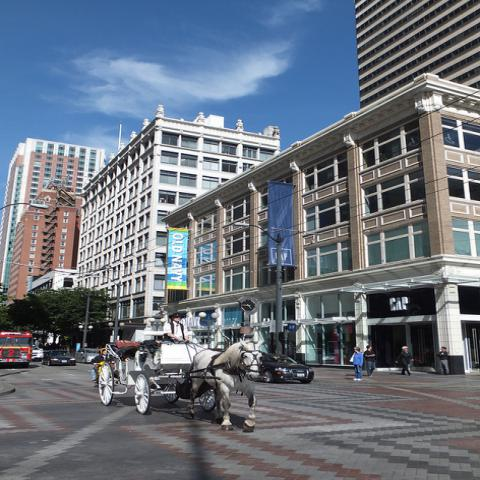bus: (0, 332, 32, 368)
car: (261, 355, 315, 384), (41, 350, 75, 366), (75, 348, 100, 364), (31, 346, 44, 362)
truck: (1, 332, 33, 367)
